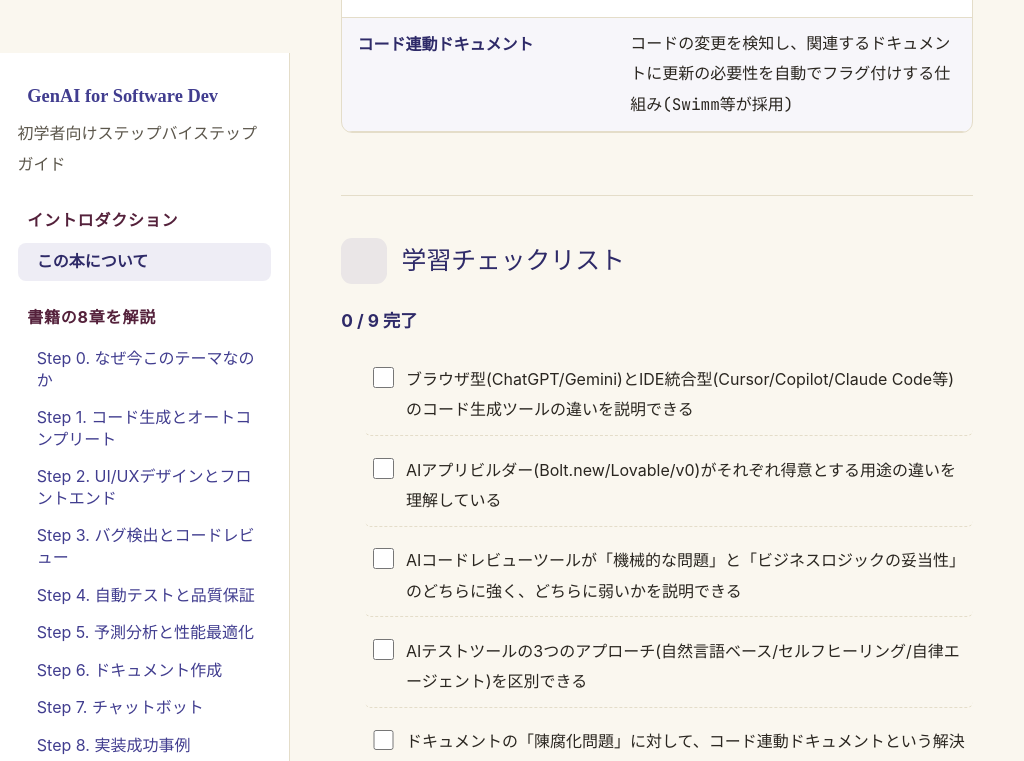
Test: Generative AI for Software Development ガイド契約テスト › Q. 品質契約 › Q-4: チェックボックス操作時にカウンターが更新され、done クラスが付与される
(page scrolled)
Expected: the text with id "checkCounter" reads "0 / 9 完了", [341,310,418,331]
Step 1. Click the 1st checkbox → (384, 378), box [373,367,394,388]
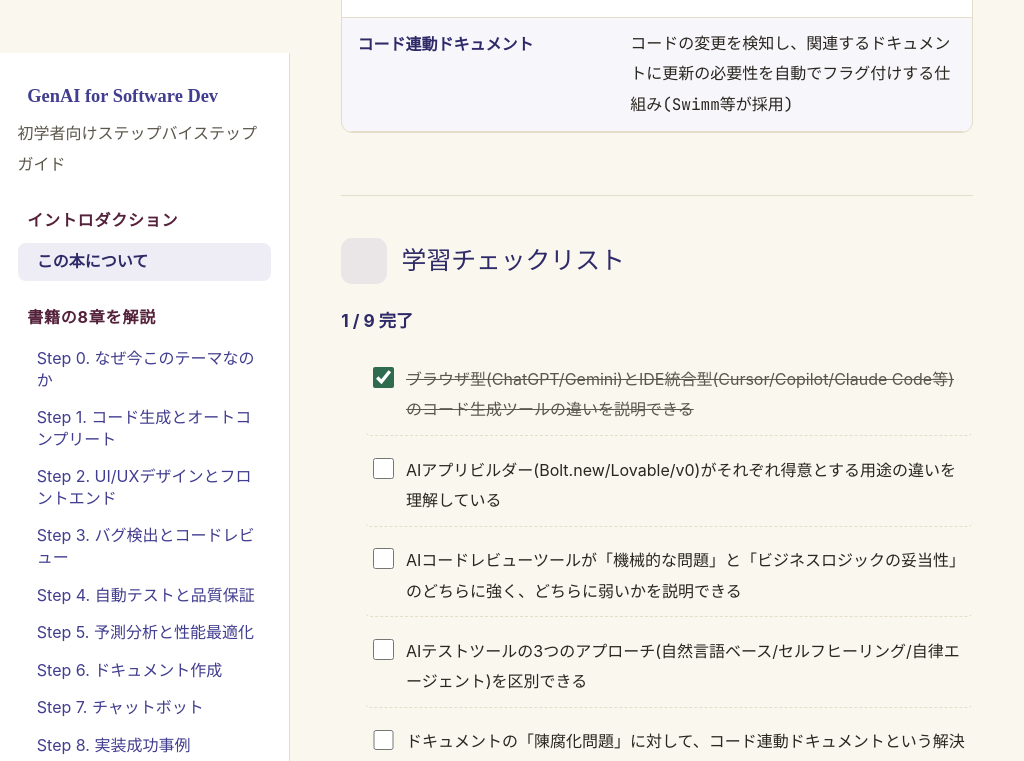
Expected: the text with id "checkCounter" reads "1 / 9 完了", [341,310,413,331]
Step 2. Click the 1st checkbox → (384, 378), box [373,367,394,388]
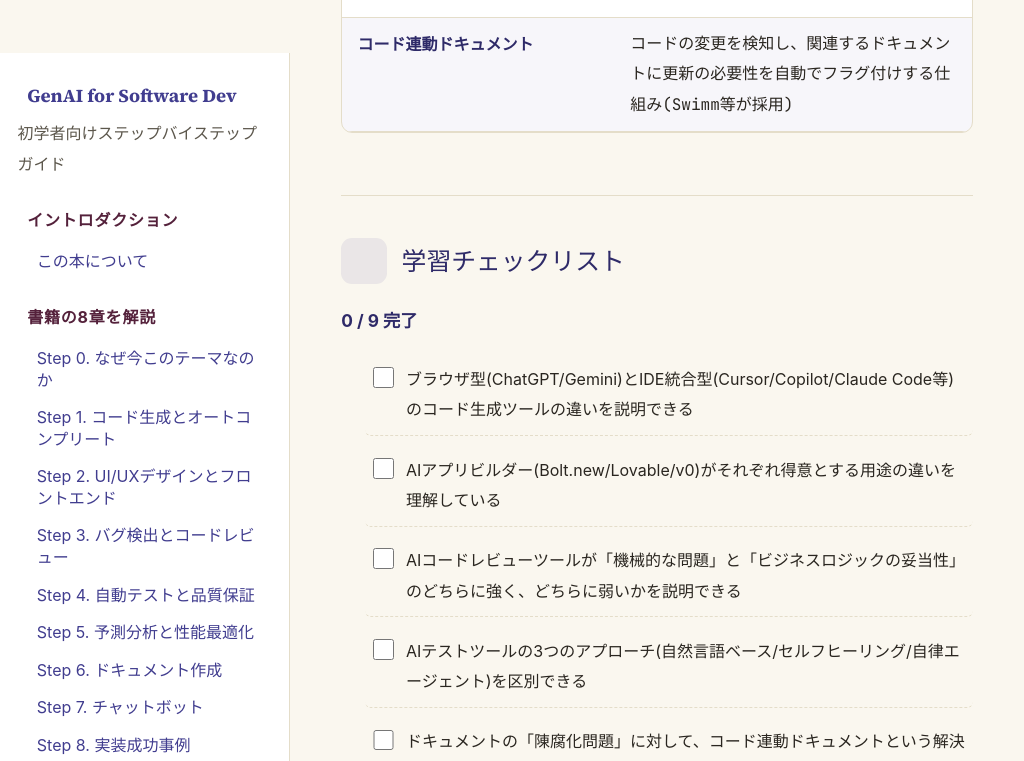
Expected: the text with id "checkCounter" reads "0 / 9 完了", [341,310,418,331]
